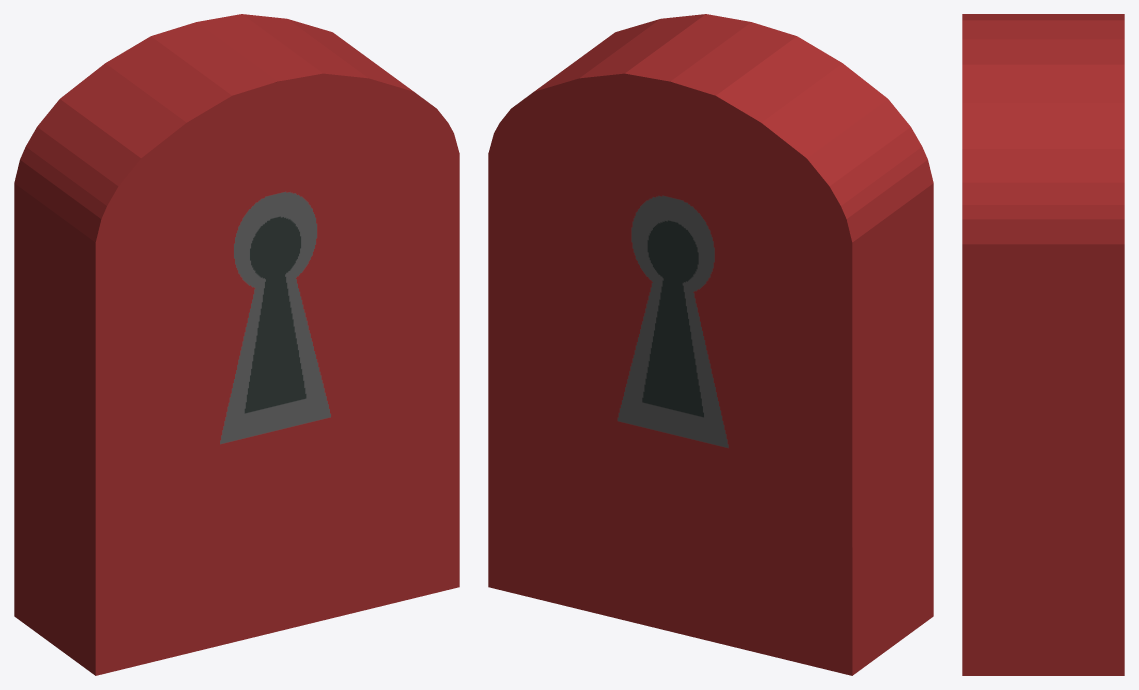
The model's file is DoorRed.obj.
3 views of the same model, side by side, from view 1: azimuth 30°, elevation 25°; view 2: azimuth 150°, elevation 25°; view 3: azimuth 270°, elevation 25° (orthographic).
Visible parts, largest first — view 1: Cube; view 2: Cube; view 3: Cube.
Part boxes in pixels (<box>): Cube: <box>14,14,459,675</box>; Cube: <box>488,14,933,675</box>; Cube: <box>962,14,1124,675</box>.
Bounding box in the file's own units: 2 × 2.89 × 0.7747.
1 material, 1 textured.
